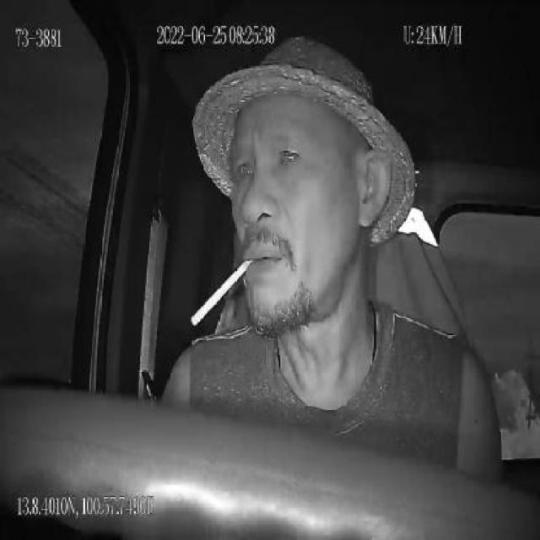smoking: (190, 258, 253, 326)
